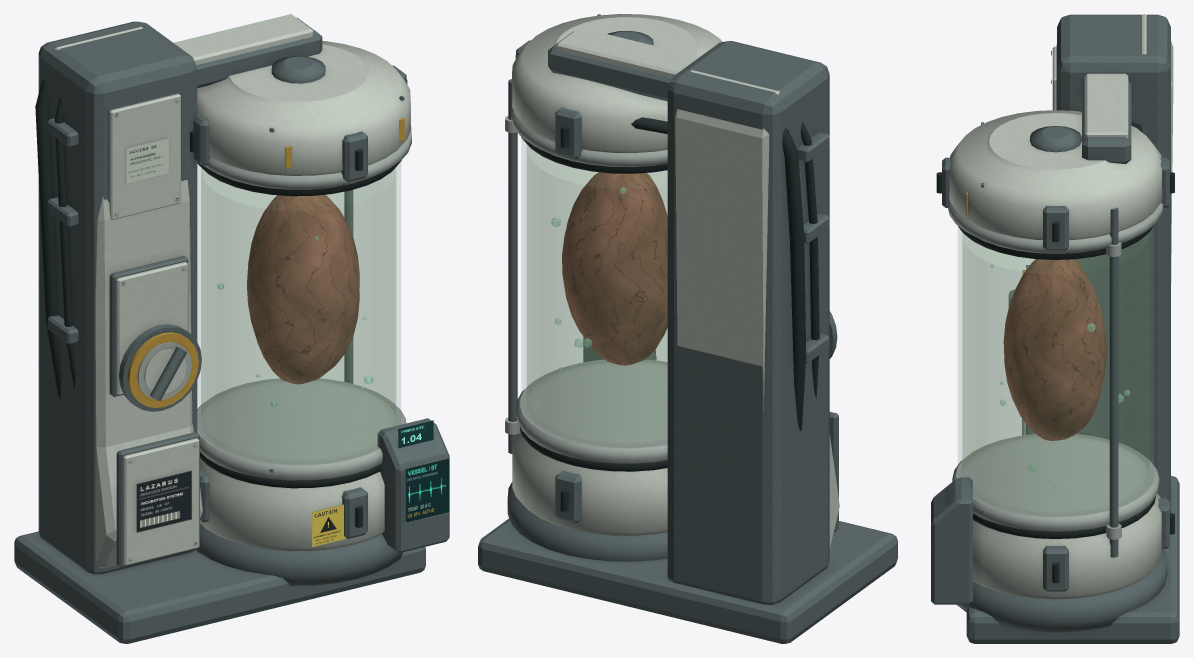
The model's file is bloom_incubator.glb.
3 renders of one model, left to right at view 1: azimuth 30°, elevation 25°; view 2: azimuth 150°, elevation 25°; view 3: azimuth 270°, elevation 25°, orthographic. The views are drawn at different scales.
Parts seen in each view (by area): view 1: bloom_incubator_Body, ContainmentGlass, PreservationLiquid, LivingEgg, PrintedGraphics; view 2: bloom_incubator_Body, LivingEgg, ContainmentGlass, PreservationLiquid; view 3: bloom_incubator_Body, ContainmentGlass, PreservationLiquid, LivingEgg.
Part boxes in pixels (x1,y1,x2,y2): bloom_incubator_Body: (14, 14, 449, 643); ContainmentGlass: (197, 162, 400, 416); PreservationLiquid: (201, 168, 395, 418); LivingEgg: (247, 194, 359, 384); PrintedGraphics: (126, 138, 449, 547); bloom_incubator_Body: (478, 14, 897, 643); LivingEgg: (562, 172, 667, 365); ContainmentGlass: (521, 139, 666, 400); PreservationLiquid: (527, 145, 667, 399); bloom_incubator_Body: (931, 14, 1179, 643); ContainmentGlass: (958, 227, 1153, 472); PreservationLiquid: (962, 233, 1148, 472); LivingEgg: (1003, 259, 1106, 440).
Size of the model in its own units: 1.48 by 2.24 by 1.02.
6 materials, 3 textured.
